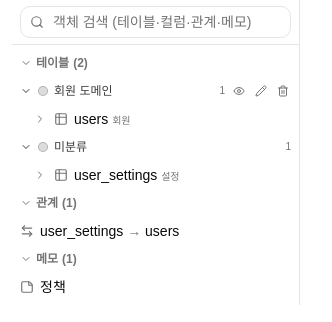
Test: ModelExplorerPanel — 그룹 폴더 트리 (v1.13) › 미분류 폴더도 목록 접기가 된다 — 눈 아이콘은 없다(그룹이 아니라 전체 보기)
Click the button with test id "explorer-group-ungrouped": (71, 147) x1=20 y1=140 x2=291 y2=154
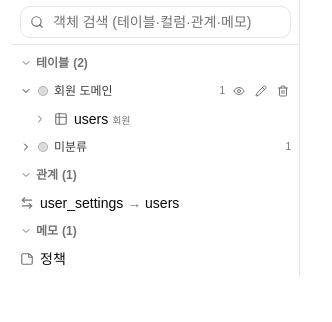
Check: the button with test id "explorer-group-ungrouped" is collapsed, box x1=20 y1=140 x2=291 y2=154
